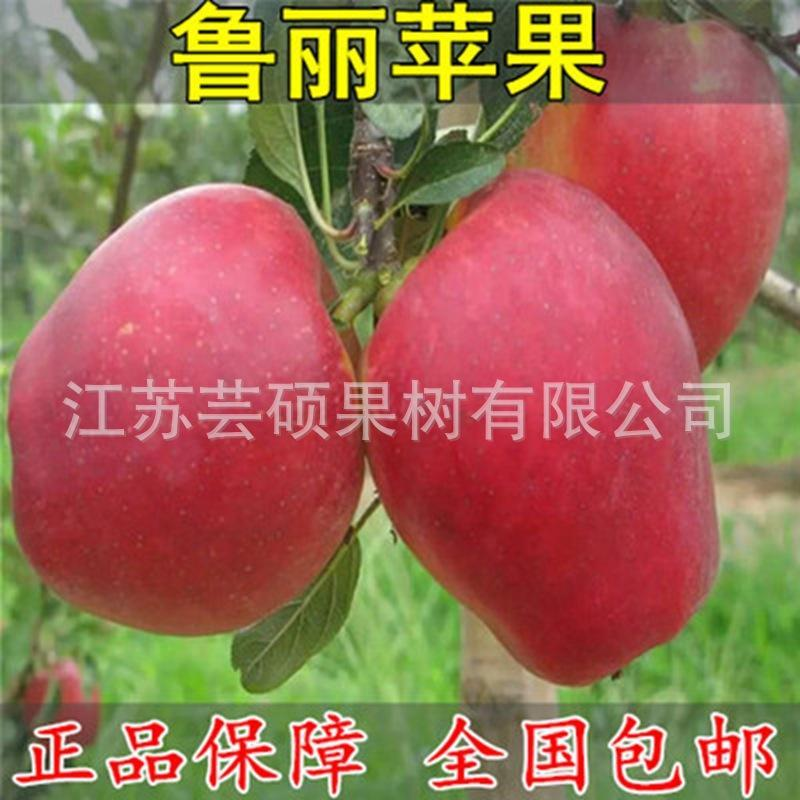apple: (361, 167, 723, 687), (5, 179, 360, 639), (455, 7, 800, 372)
